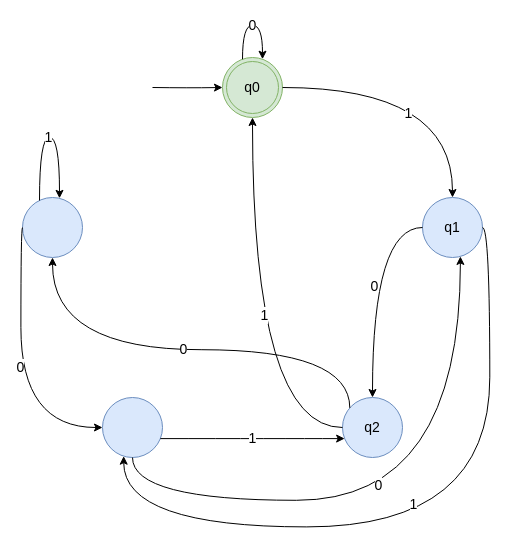
This 508x545 diagram has some shape labels left out. Here are the shapes that lost their labels. From the top down, the box of each, then its label:
(22, 196, 82, 258): q4
(102, 396, 162, 458): q3
